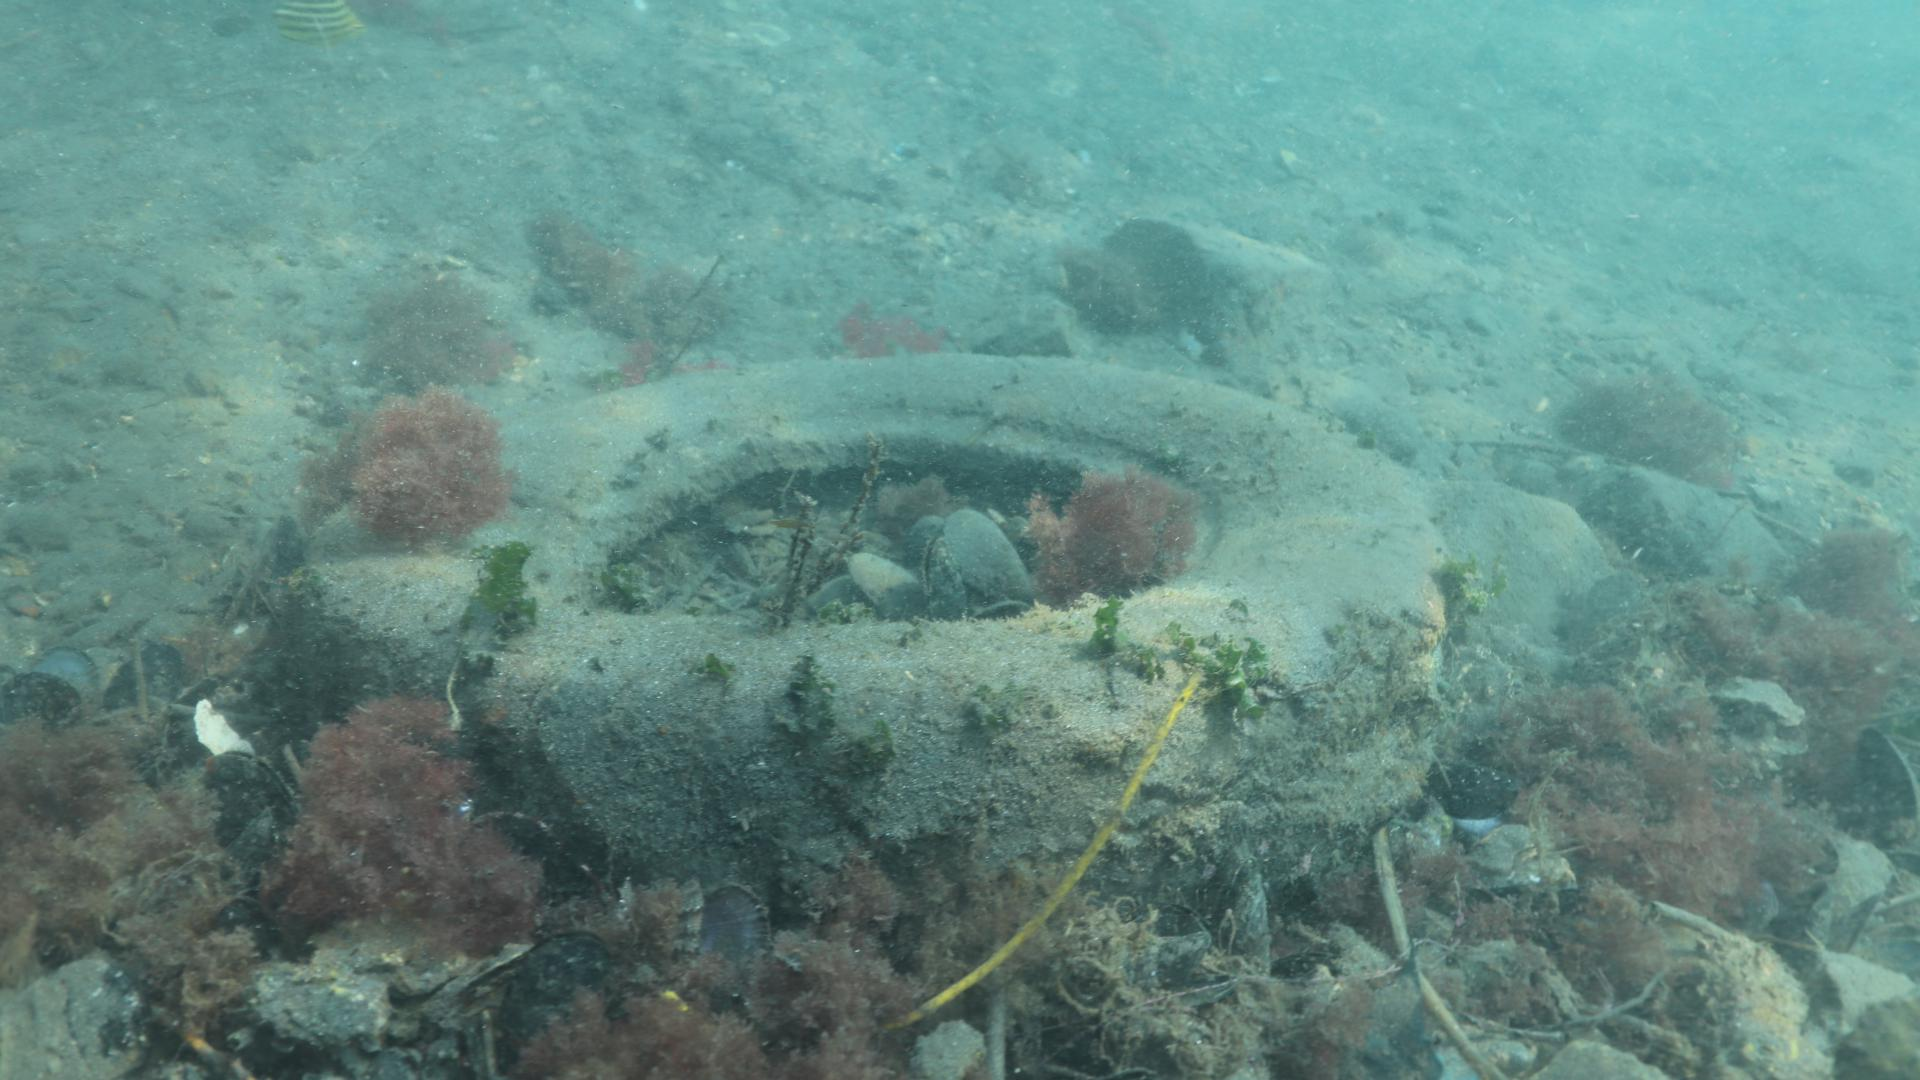tire: (301, 353, 1447, 920)
